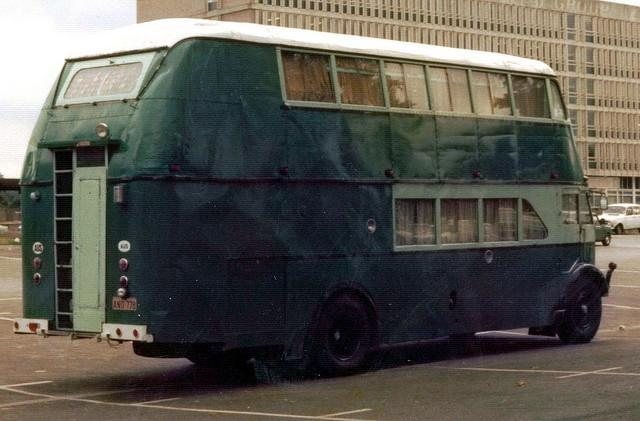bus: (8, 19, 618, 371)
car: (599, 202, 640, 235), (592, 210, 614, 248)
